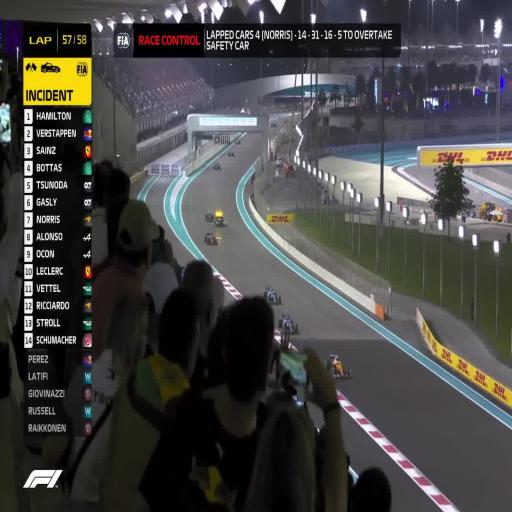f1_car: (326, 355, 352, 378), (278, 314, 299, 334), (263, 287, 282, 303), (205, 233, 217, 245), (205, 210, 214, 221), (212, 162, 221, 169), (228, 150, 234, 156), (235, 138, 240, 145)
